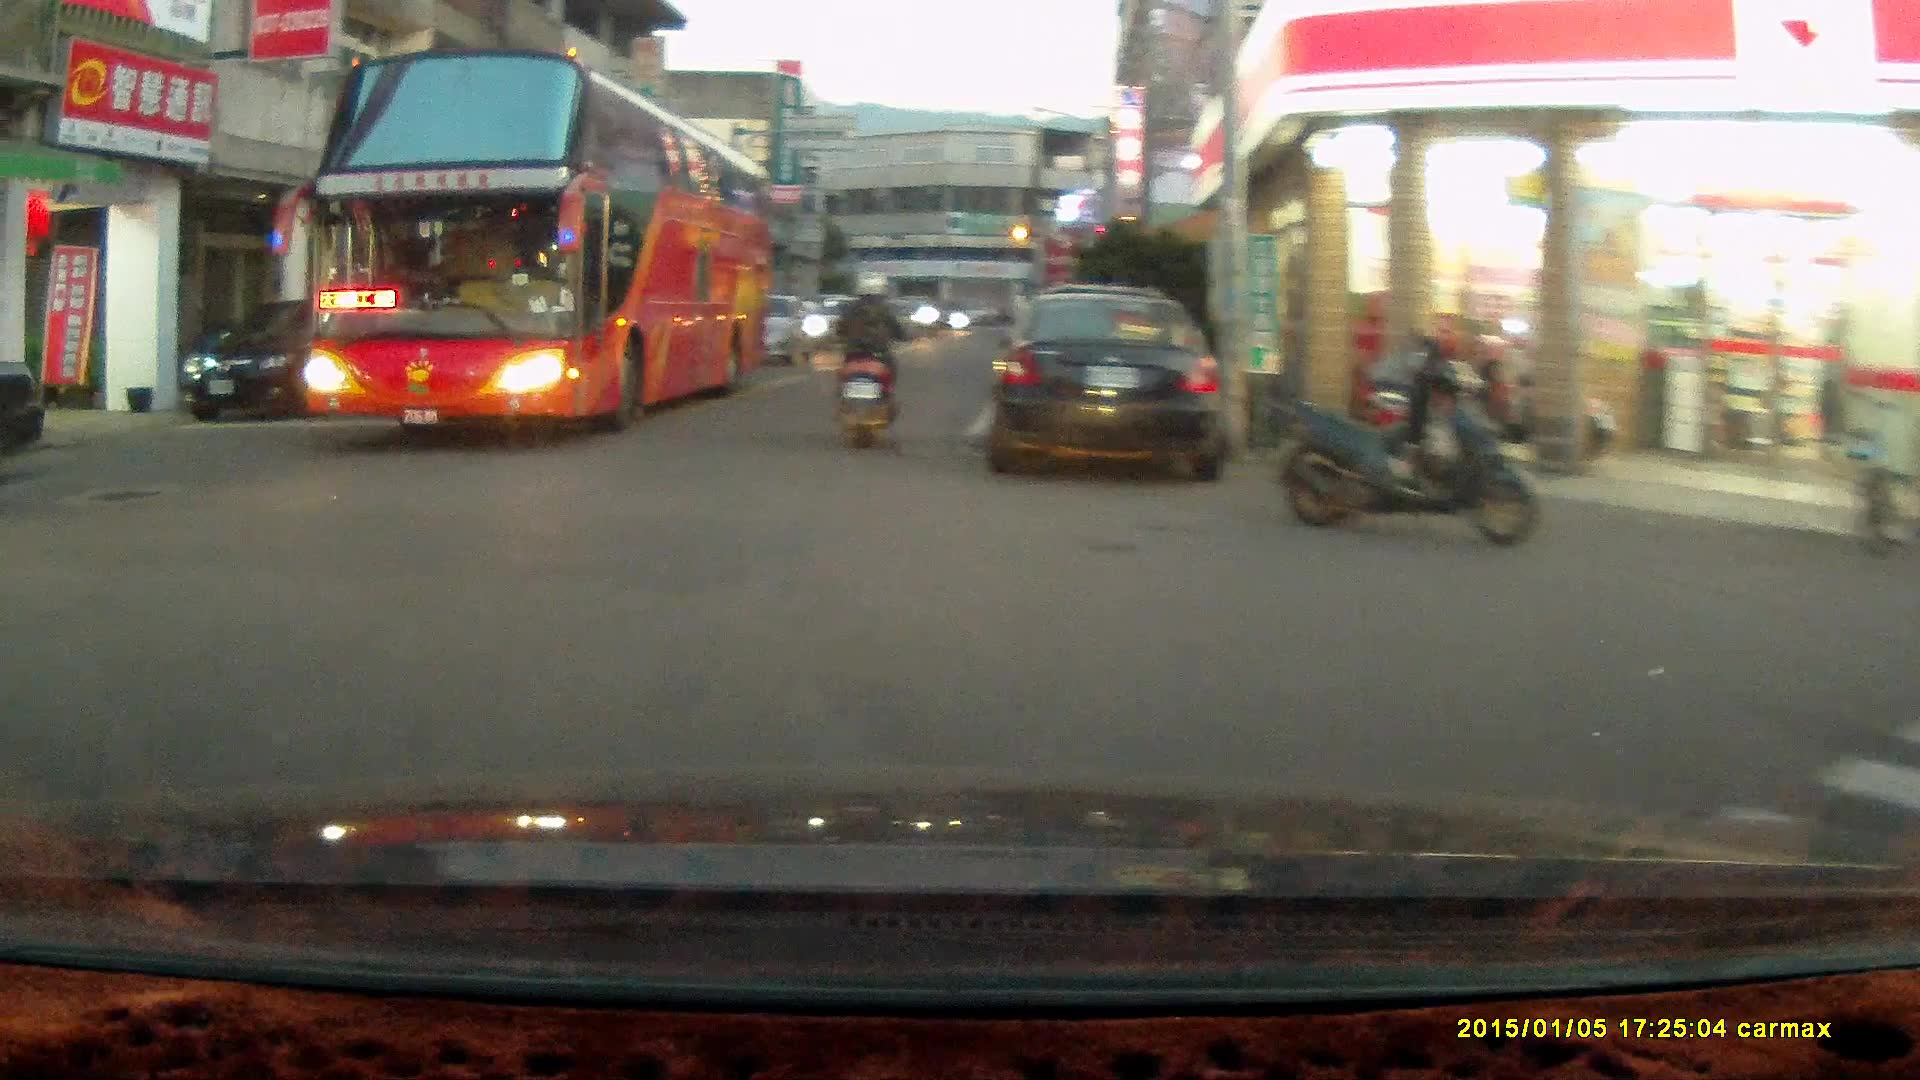rider: (827, 265, 908, 450)
vehicle: (296, 50, 780, 439), (981, 286, 1236, 480), (181, 304, 379, 420)
